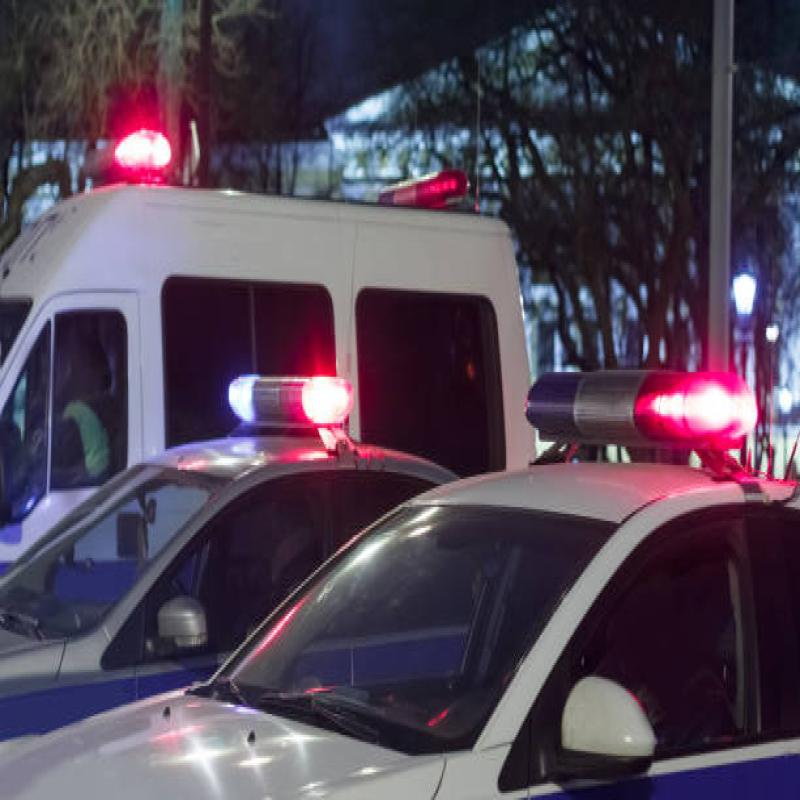AmbulanceSiren: (504, 324, 739, 464), (204, 340, 356, 448), (371, 165, 473, 251), (93, 120, 174, 182)
